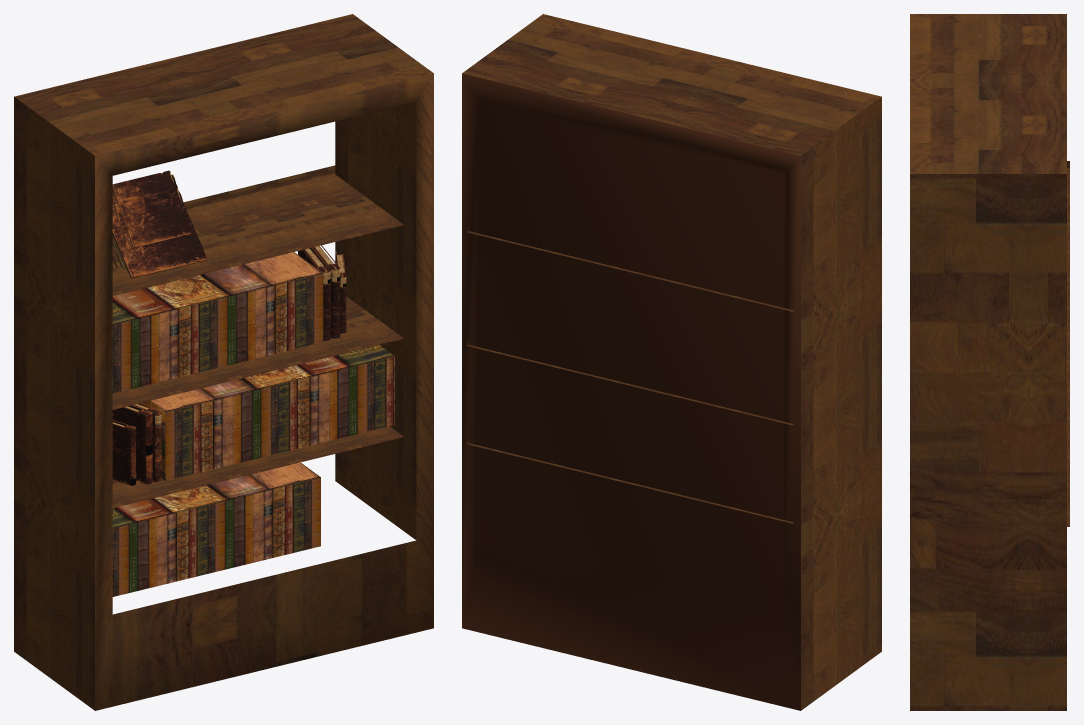
File: bookshelf.glb
3 views of the same model, side by side, from view 1: azimuth 30°, elevation 25°; view 2: azimuth 150°, elevation 25°; view 3: azimuth 270°, elevation 25° (orthographic). The views are drawn at different scales.
Visible parts, largest first — view 1: bookshelf; view 2: bookshelf; view 3: bookshelf.
Part boxes in pixels (x1=…): bookshelf: x1=14, y1=14, x2=433, y2=710; bookshelf: x1=462, y1=14, x2=881, y2=710; bookshelf: x1=910, y1=14, x2=1069, y2=710.
Size of the model in its own units: 1.25 by 1.95 by 0.5264.
Materials: 4 (4 with a texture image).
